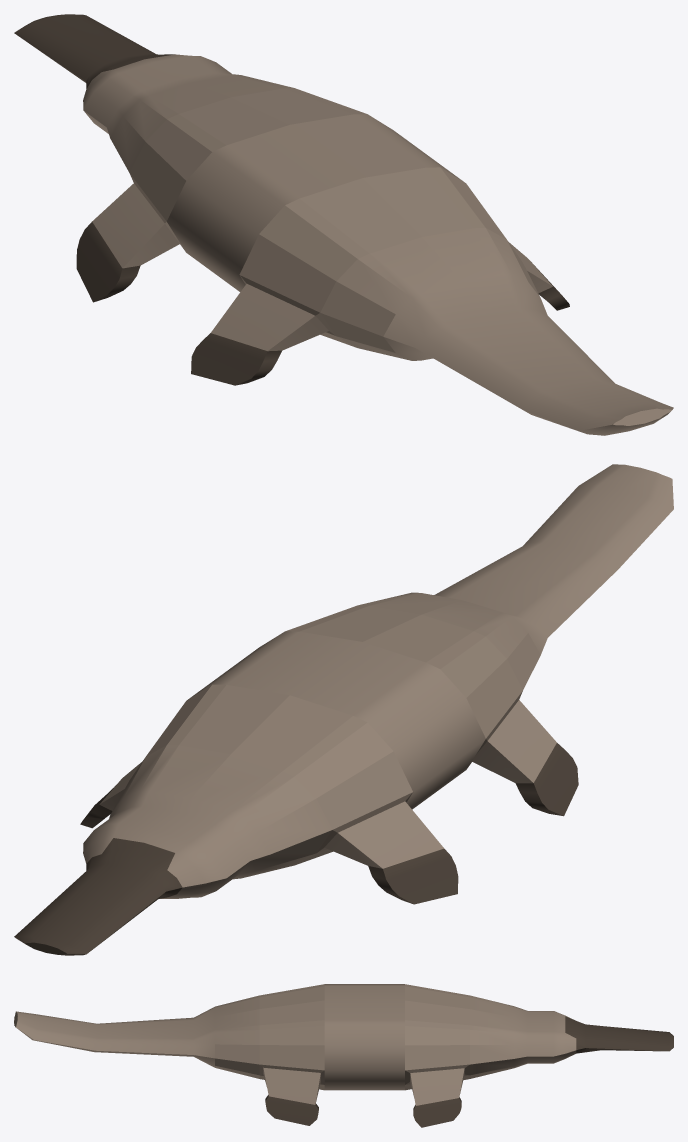
File: Platypus.fbx
The picture shows the model from 3 angles, top to bottom: view 1: azimuth 30°, elevation 25°; view 2: azimuth 150°, elevation 25°; view 3: azimuth 270°, elevation 25°; orthographic projection. The views are drawn at different scales.
Parts seen in each view (by area): view 1: Platypus; view 2: Platypus; view 3: Platypus.
Part boxes in pixels (x1,y1,x2,y2): Platypus: (14, 14, 673, 435); Platypus: (14, 464, 673, 955); Platypus: (14, 984, 673, 1127).
Bounding box in the file's own units: 3.72 × 1.4 × 10.52.
